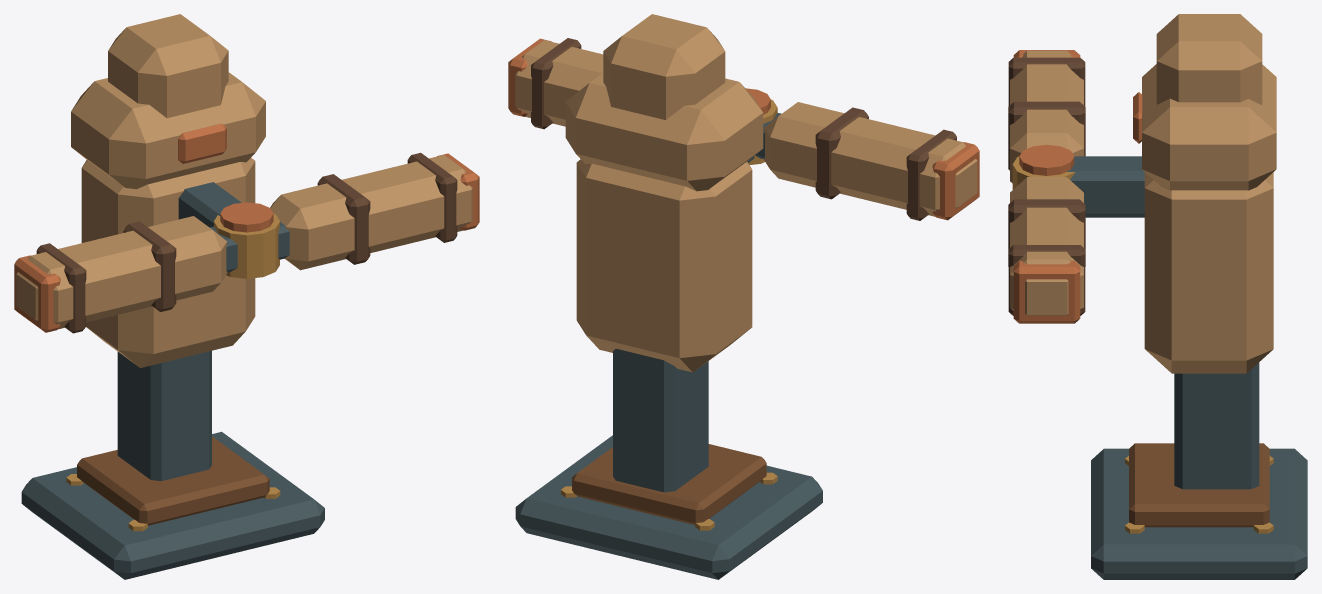
Rendered from w3d-padded-parry-stand.glb.
The picture shows the model from 3 angles, left to right: view 1: azimuth 30°, elevation 25°; view 2: azimuth 150°, elevation 25°; view 3: azimuth 270°, elevation 25°; orthographic projection. The views are drawn at different scales.
Parts seen in each view (by area): view 1: Parry stand | static, Parry arm | pose pivot; view 2: Parry stand | static, Parry arm | pose pivot; view 3: Parry stand | static, Parry arm | pose pivot.
Part boxes in pixels (x1=…): Parry stand | static: x1=21, y1=14, x2=324, y2=579; Parry arm | pose pivot: x1=14, y1=152, x2=479, y2=333; Parry stand | static: x1=515, y1=14, x2=822, y2=579; Parry arm | pose pivot: x1=508, y1=38, x2=979, y2=220; Parry stand | static: x1=1012, y1=14, x2=1307, y2=579; Parry arm | pose pivot: x1=1008, y1=50, x2=1085, y2=323.
Size of the model in its own units: 1.8 by 1.9 by 1.02.
